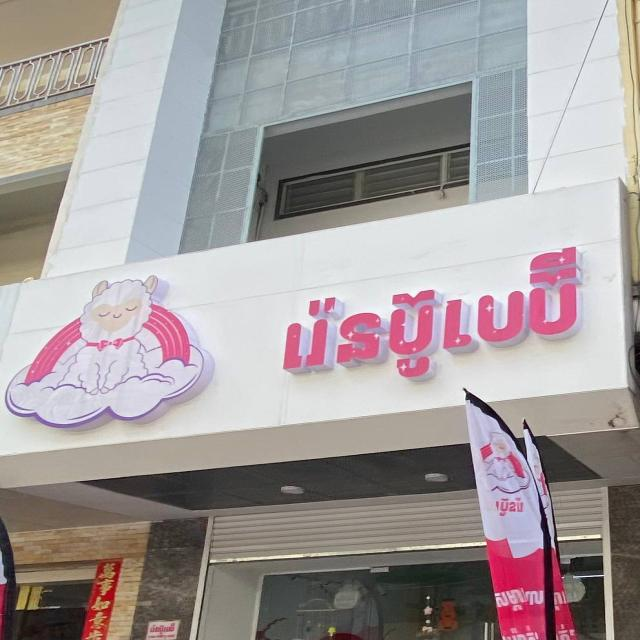Yolov11_80vkh: (258, 243, 584, 405)
